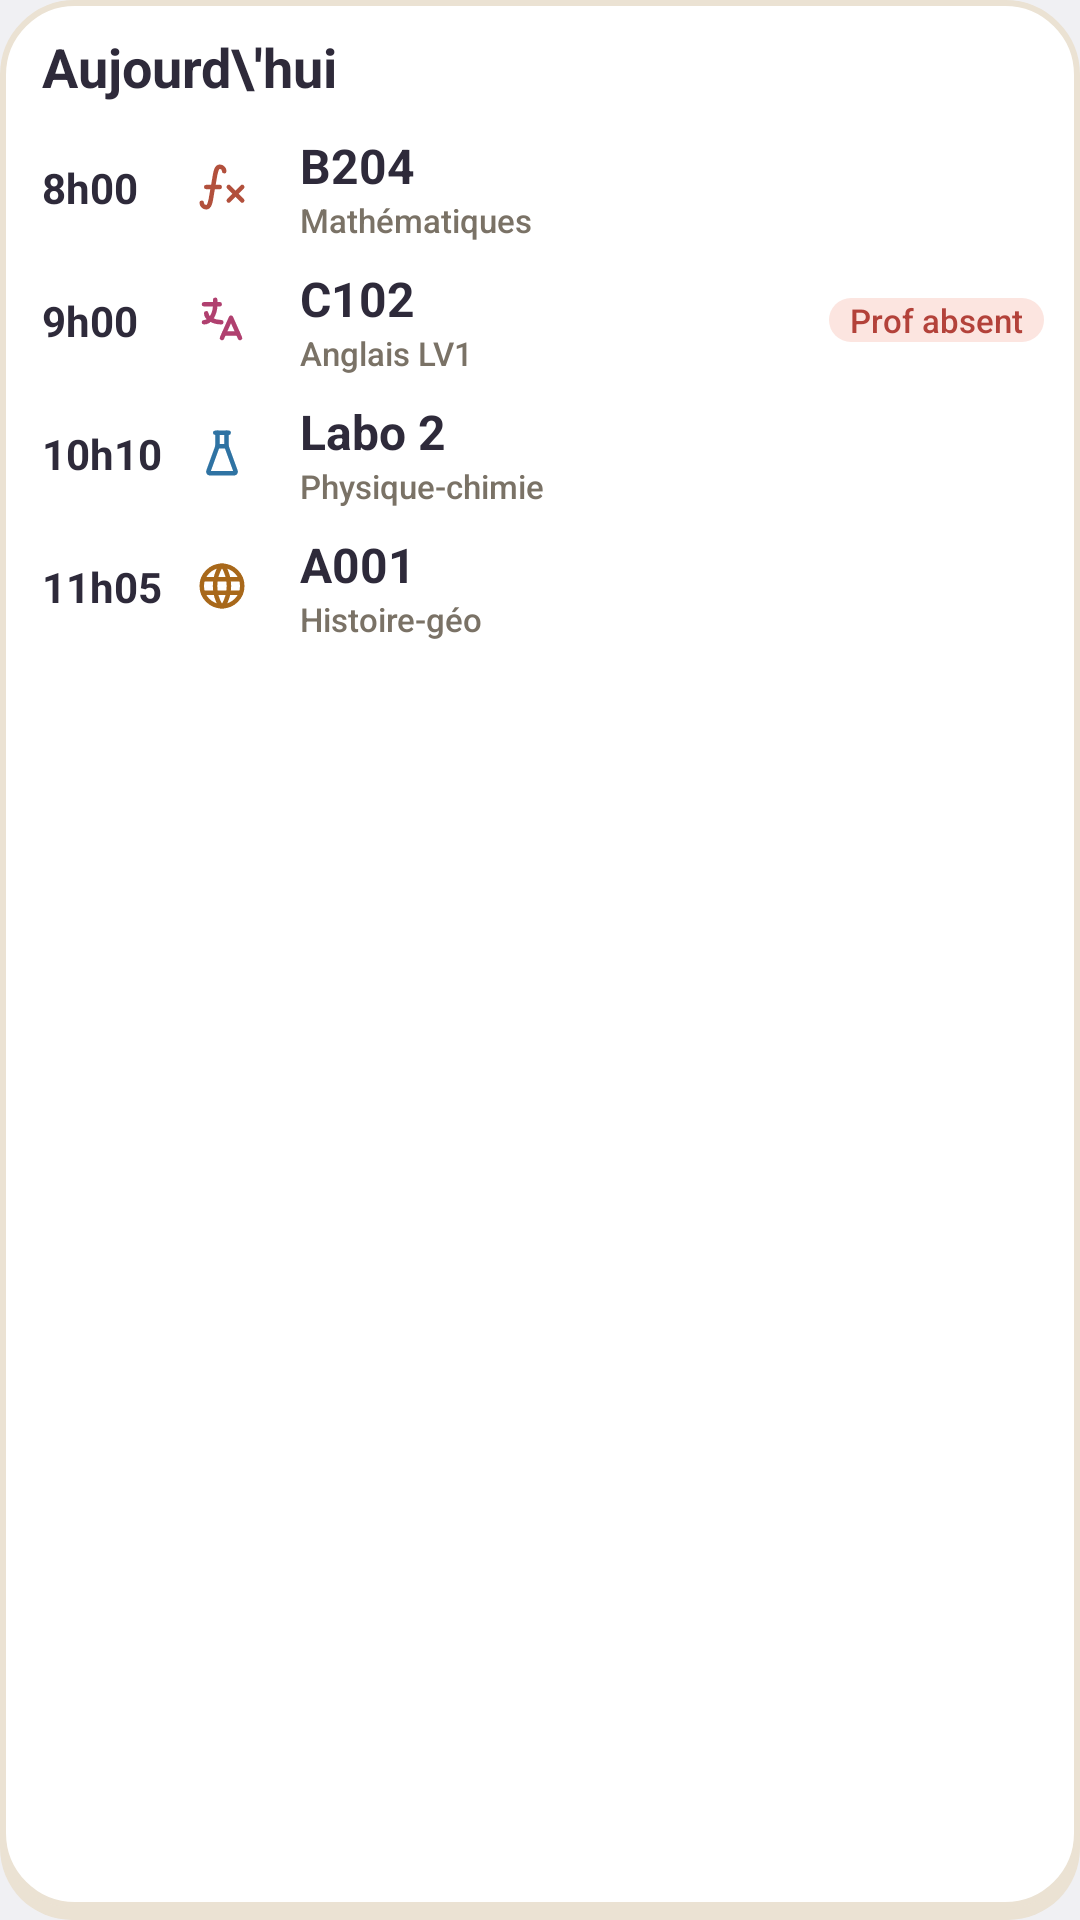

Icon click points for this 1080 × 1920 phone screenshot, format [x,y]:
flask: [222,453]
language: [222,319]
maths: [222,187]
world: [222,586]
